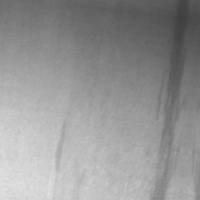inclusion: (144, 17, 196, 199), (46, 117, 77, 183)
